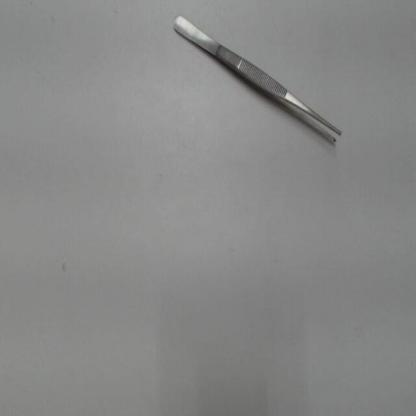Gillies Toothed Dissector: (166, 7, 348, 158)
